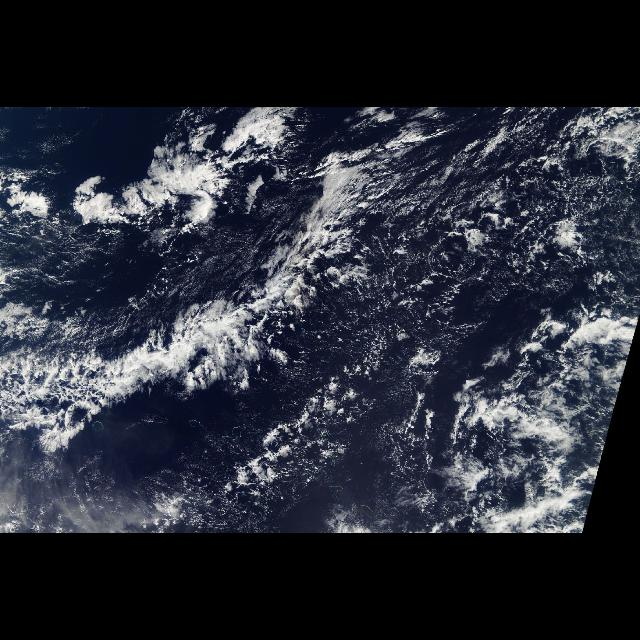Gravel: (378, 172, 634, 316)
